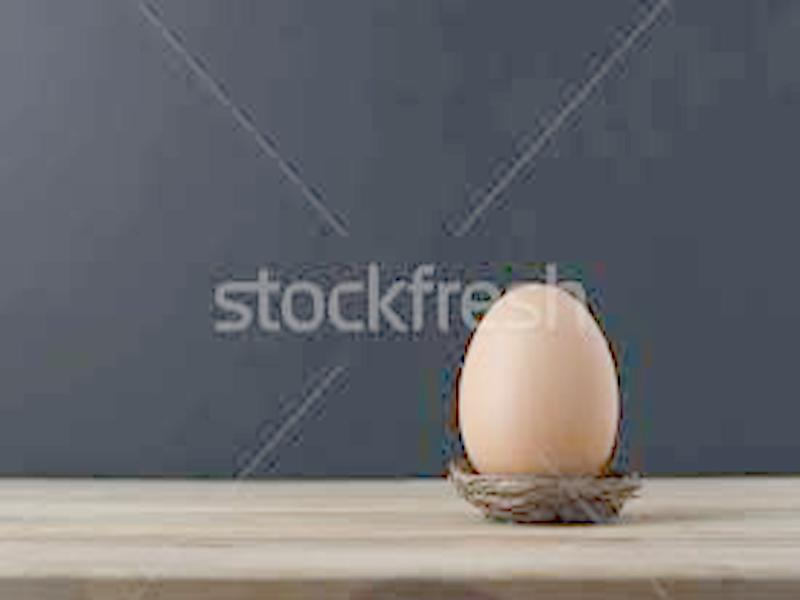Eggs: (463, 285, 620, 479)
